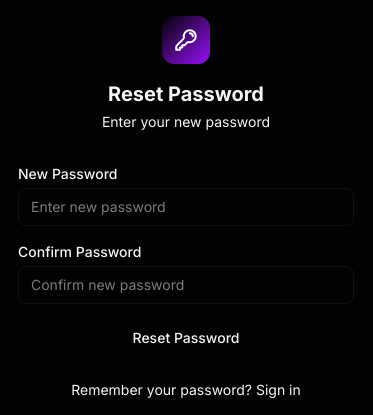
Test case: shows 'Resetting…' while request is in flight
In the password field with placeholder "Enter new password": (186, 207) [18, 188, 354, 226], type "newpass123"
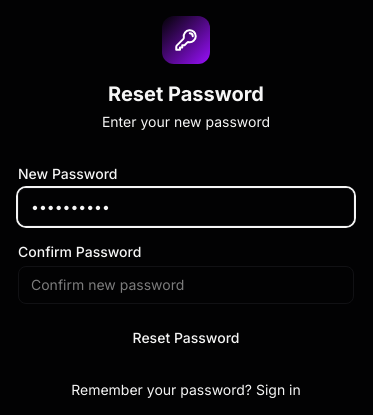
In the password field with placeholder "Confirm new password": (186, 285) [18, 266, 354, 304], type "newpass123"
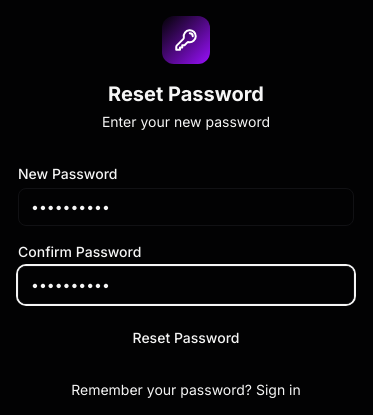
Click the button "Reset Password": (186, 338) [18, 320, 354, 356]
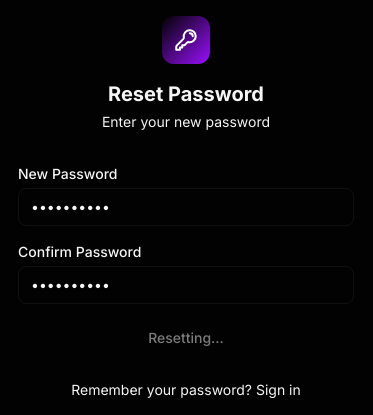
Result: the button "Resetting..." is disabled at [18, 320, 354, 356]
